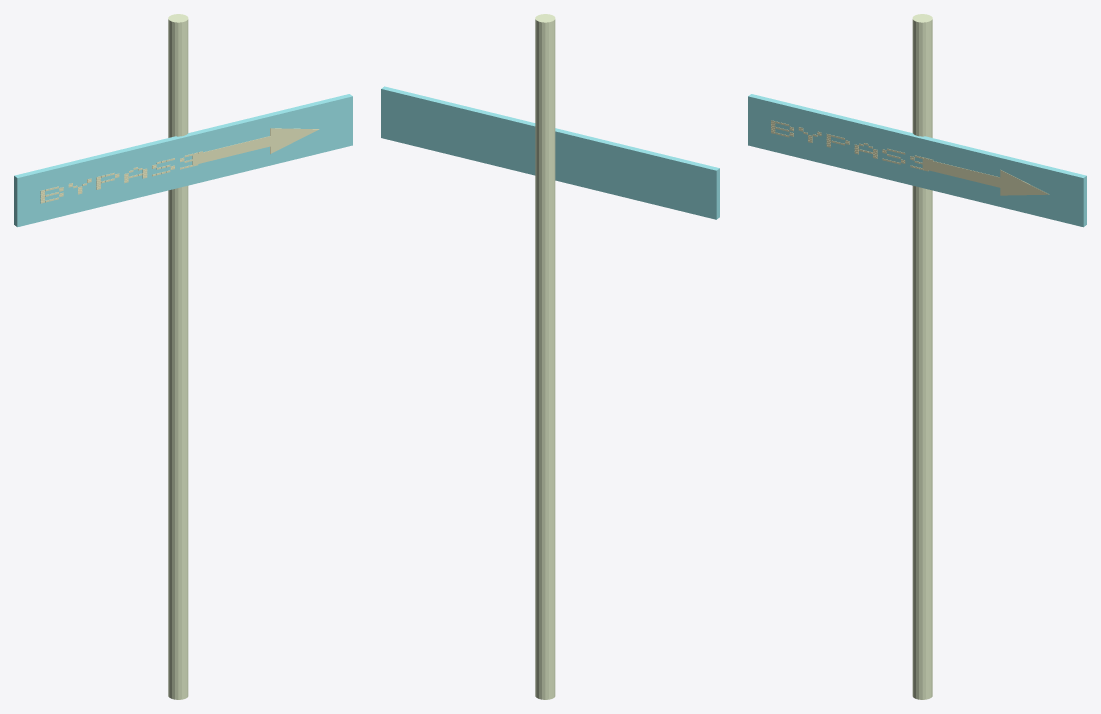
File: sign_bypass_right_text.glb
3 renders of one model, left to right at view 1: azimuth 30°, elevation 25°; view 2: azimuth 150°, elevation 25°; view 3: azimuth 330°, elevation 25°, orthographic.
Parts seen in each view (by area): view 1: plate_base_00, pole, layer_1_00, layer_1_01; view 2: plate_base_00, pole; view 3: plate_base_00, pole, layer_1_00, layer_1_01.
Part boxes in pixels (bbox=[...]): plate_base_00: bbox=[14, 94, 352, 227]; pole: bbox=[168, 14, 188, 699]; layer_1_00: bbox=[192, 136, 270, 164]; layer_1_01: bbox=[270, 128, 319, 153]; plate_base_00: bbox=[381, 86, 719, 219]; pole: bbox=[535, 14, 555, 699]; plate_base_00: bbox=[748, 94, 1086, 227]; pole: bbox=[912, 14, 932, 699]; layer_1_00: bbox=[922, 158, 1000, 187]; layer_1_01: bbox=[1000, 170, 1049, 195].
Size of the model in its own units: 1.14 by 2.2 by 0.071.
